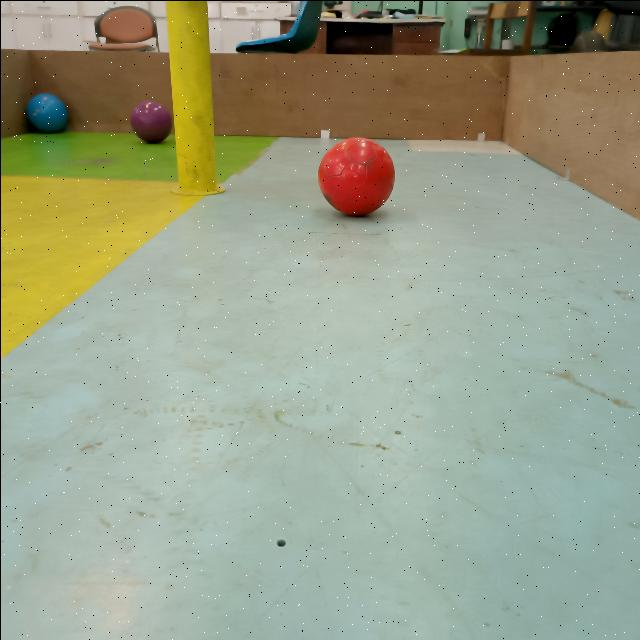B: (24, 91, 68, 133)
P: (130, 98, 172, 144)
R: (313, 134, 397, 218)
